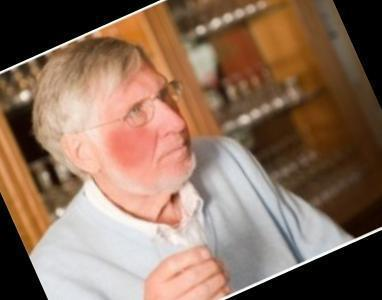Drunk: (100, 70, 196, 188)
